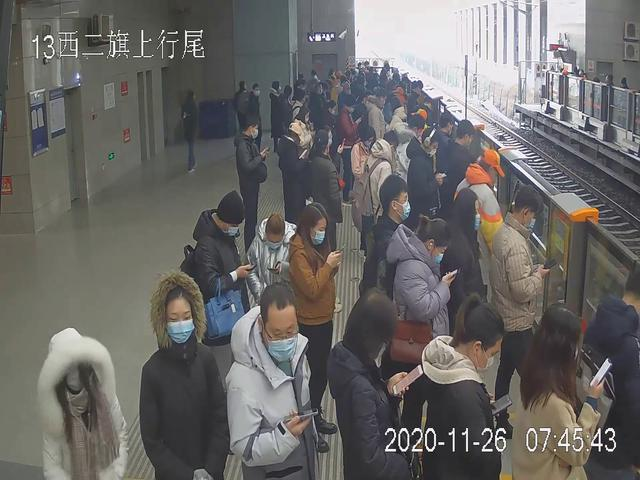person: (137, 271, 232, 480), (231, 282, 324, 480), (181, 191, 249, 459), (329, 286, 419, 480), (516, 300, 611, 480), (388, 214, 454, 457), (493, 182, 551, 440), (423, 294, 502, 480), (288, 202, 340, 454), (232, 118, 267, 255)
